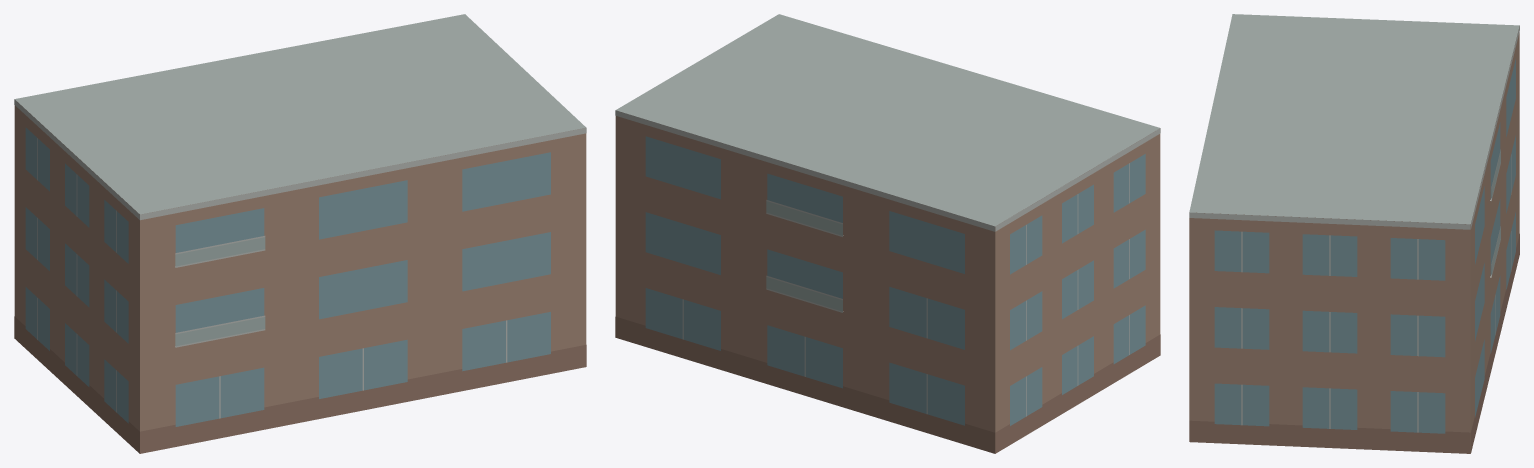
File: survey-upis-32581476.glb
The picture shows the model from 3 angles, left to right: view 1: azimuth 30°, elevation 25°; view 2: azimuth 150°, elevation 25°; view 3: azimuth 270°, elevation 25°; orthographic projection. The views are drawn at different scales.
Parts seen in each view (by area): view 1: survey-upis-32581476.tmp; view 2: survey-upis-32581476.tmp; view 3: survey-upis-32581476.tmp.
Part boxes in pixels (x1,y1,x2,y2): survey-upis-32581476.tmp: (14, 14, 586, 453); survey-upis-32581476.tmp: (615, 14, 1160, 453); survey-upis-32581476.tmp: (1189, 14, 1519, 453).
Bounding box in the file's own units: 20.05 × 10.2 × 13.32.
